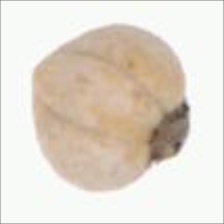L5: (31, 47, 157, 140), (145, 96, 192, 166)
L6: (25, 20, 194, 195)
